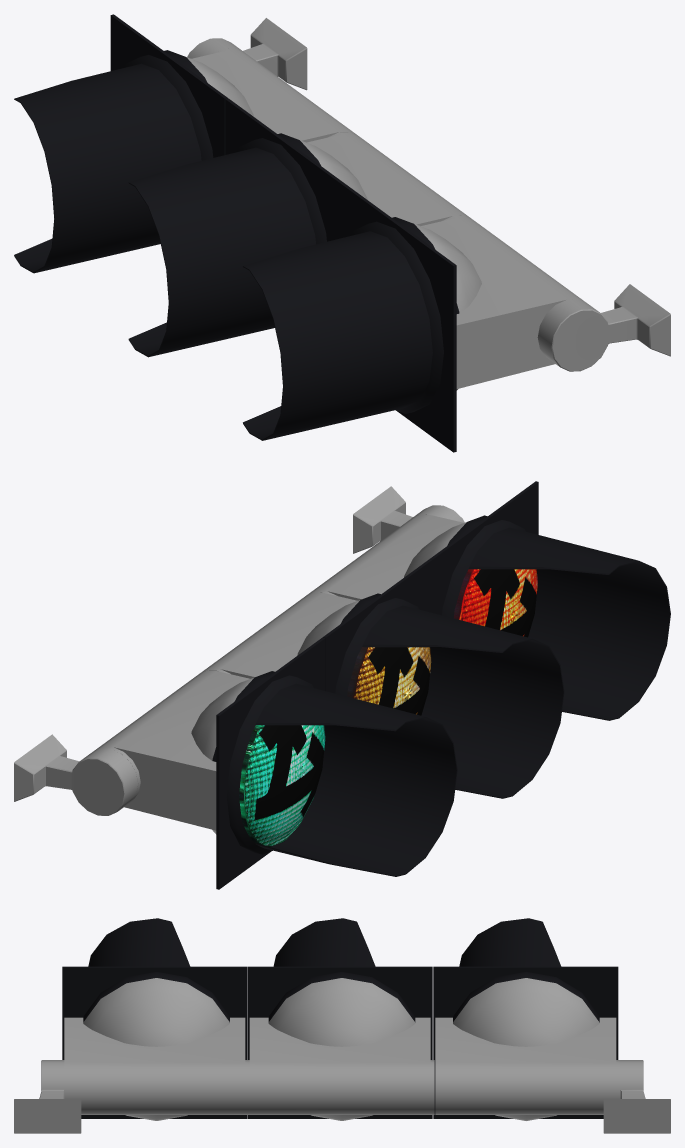
The model's file is Ampel_Abbieger_links_geradeaus_Mast.obj.
The picture shows the model from 3 angles, top to bottom: view 1: azimuth 30°, elevation 25°; view 2: azimuth 150°, elevation 25°; view 3: azimuth 270°, elevation 25°; orthographic projection. The views are drawn at different scales.
Visible parts, largest first — view 1: Sonnenblende.002_Cylinder.002, Sonnenblende_Cylinder.002, Sonnenblende.001_Cylinder.002, Cube.004_Cube.002, Masthalterung_Cylinder.004, Blende.002_Cube.004, Cube.005_Cube.002, Cube.003_Cube.002, BezierCurve.020, Blende_Cube.004, Blende.001_Cube.004, Masthalterung.001_Cylinder.004 (+2 smaller); view 2: Sonnenblende_Cylinder.002, Sonnenblende.001_Cylinder.002, Sonnenblende.002_Cylinder.002, BezierCurve.018, Cube.005_Cube.002, BezierCurve.019, BezierCurve.020, Masthalterung.001_Cylinder.004, Blende_Cube.004, Cube.003_Cube.002, Cube.004_Cube.002, Blende.001_Cube.004 (+2 smaller); view 3: Cube.003_Cube.002, Cube.005_Cube.002, Cube.004_Cube.002, BezierCurve.019, BezierCurve.018, BezierCurve.020, Blende_Cube.004, Blende.001_Cube.004, Blende.002_Cube.004, Sonnenblende.001_Cylinder.002, Sonnenblende.002_Cylinder.002, Sonnenblende_Cylinder.002 (+2 smaller).
Part boxes in pixels (left/top/right/bottom): Sonnenblende.002_Cylinder.002: left=243, top=231, right=432, bottom=440; Sonnenblende_Cylinder.002: left=14, top=63, right=201, bottom=273; Sonnenblende.001_Cylinder.002: left=128, top=147, right=315, bottom=357; Cube.004_Cube.002: left=421, top=215, right=586, bottom=388; Masthalterung_Cylinder.004: left=537, top=284, right=670, bottom=371; Blende.002_Cube.004: left=339, top=182, right=456, bottom=452; Cube.005_Cube.002: left=191, top=48, right=357, bottom=142; Cube.003_Cube.002: left=307, top=132, right=472, bottom=226; BezierCurve.020: left=350, top=217, right=481, bottom=413; Blende_Cube.004: left=110, top=14, right=227, bottom=157; Blende.001_Cube.004: left=225, top=98, right=342, bottom=241; Masthalterung.001_Cylinder.004: left=187, top=18, right=307, bottom=90; Sonnenblende_Cylinder.002: left=255, top=683, right=457, bottom=876; Sonnenblende.001_Cylinder.002: left=362, top=605, right=564, bottom=798; Sonnenblende.002_Cylinder.002: left=468, top=527, right=670, bottom=720; BezierCurve.018: left=191, top=671, right=325, bottom=854; Cube.005_Cube.002: left=93, top=670, right=249, bottom=830; BezierCurve.019: left=297, top=593, right=431, bottom=715; BezierCurve.020: left=404, top=515, right=537, bottom=637; Masthalterung.001_Cylinder.004: left=14, top=734, right=138, bottom=815; Blende_Cube.004: left=216, top=637, right=325, bottom=889; Cube.003_Cube.002: left=199, top=592, right=357, bottom=678; Cube.004_Cube.002: left=305, top=514, right=463, bottom=600; Blende.001_Cube.004: left=323, top=559, right=432, bottom=693; Cube.003_Cube.002: left=249, top=1017, right=434, bottom=1114; Cube.005_Cube.002: left=435, top=1017, right=620, bottom=1114; Cube.004_Cube.002: left=64, top=1017, right=249, bottom=1114; BezierCurve.019: left=268, top=972, right=415, bottom=1120; BezierCurve.018: left=453, top=972, right=599, bottom=1120; BezierCurve.020: left=83, top=972, right=229, bottom=1120; Blende_Cube.004: left=433, top=966, right=618, bottom=1118; Blende.001_Cube.004: left=247, top=966, right=432, bottom=1118; Blende.002_Cube.004: left=62, top=966, right=247, bottom=1118; Sonnenblende.001_Cylinder.002: left=273, top=918, right=375, bottom=966; Sonnenblende.002_Cylinder.002: left=88, top=918, right=190, bottom=966; Sonnenblende_Cylinder.002: left=459, top=918, right=561, bottom=966.
Bounding box in the file's own units: 0.4823 × 0.2502 × 0.9853.
Materials: 5 (5 with a texture image).
